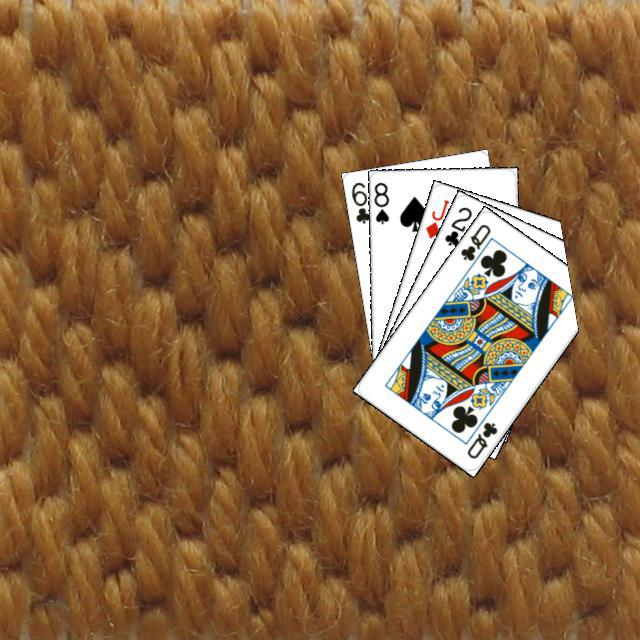2c: (439, 202, 474, 247)
6c: (346, 177, 372, 225)
8s: (370, 178, 391, 225)
Jd: (420, 195, 451, 240)
Qc: (455, 219, 496, 271), (462, 417, 499, 461)
